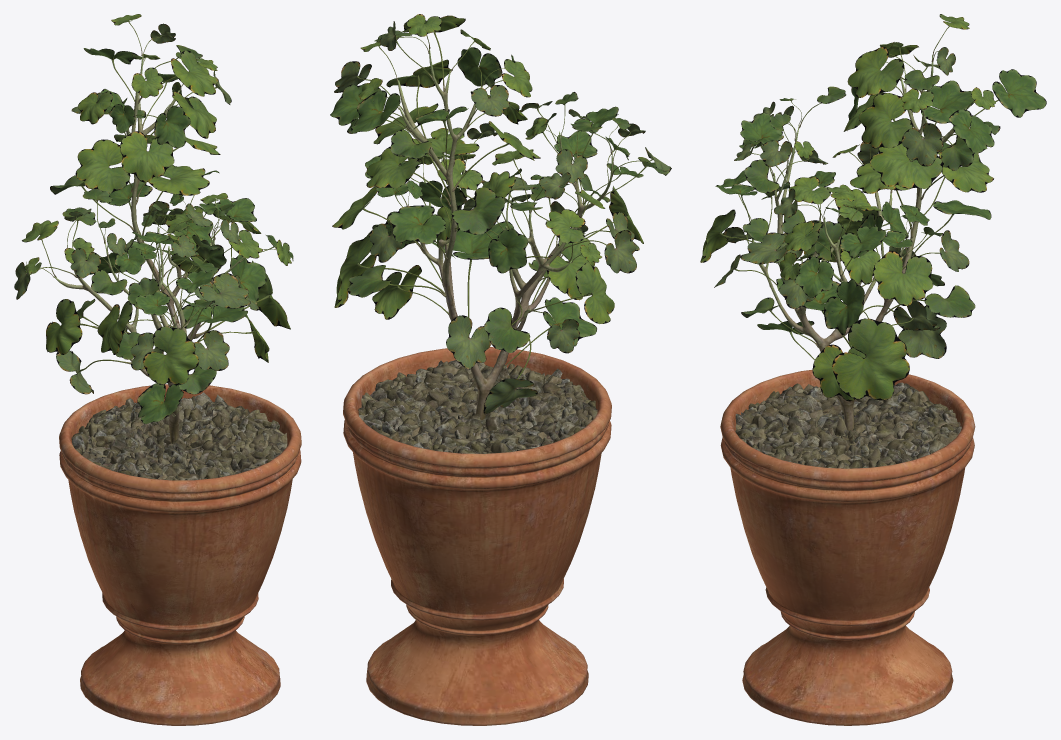
File: potted_plant_01.glb
3 views of the same model, side by side, from view 1: azimuth 30°, elevation 25°; view 2: azimuth 150°, elevation 25°; view 3: azimuth 270°, elevation 25° (orthographic). The views are drawn at different scales.
Parts seen in each view (by area): view 1: potted_plant_01_pot, potted_plant_01_leaves, potted_plant_01_pebbles, potted_plant_01_stem; view 2: potted_plant_01_pot, potted_plant_01_leaves, potted_plant_01_pebbles, potted_plant_01_stem; view 3: potted_plant_01_pot, potted_plant_01_leaves, potted_plant_01_pebbles, potted_plant_01_stem.
Part boxes in pixels (x1,y1,x2,y2): potted_plant_01_pot: [59, 384, 301, 725]; potted_plant_01_leaves: [14, 14, 293, 423]; potted_plant_01_pebbles: [71, 392, 287, 480]; potted_plant_01_stem: [54, 54, 244, 443]; potted_plant_01_pot: [343, 347, 611, 725]; potted_plant_01_leaves: [330, 14, 671, 414]; potted_plant_01_pebbles: [358, 360, 597, 453]; potted_plant_01_stem: [397, 49, 612, 420]; potted_plant_01_pot: [720, 369, 975, 725]; potted_plant_01_leaves: [700, 14, 1046, 401]; potted_plant_01_pebbles: [735, 382, 961, 468]; potted_plant_01_stem: [751, 55, 966, 431].
Size of the model in its own units: 0.5874 by 1.34 by 0.6336.
Materials: 2 (2 with a texture image).
